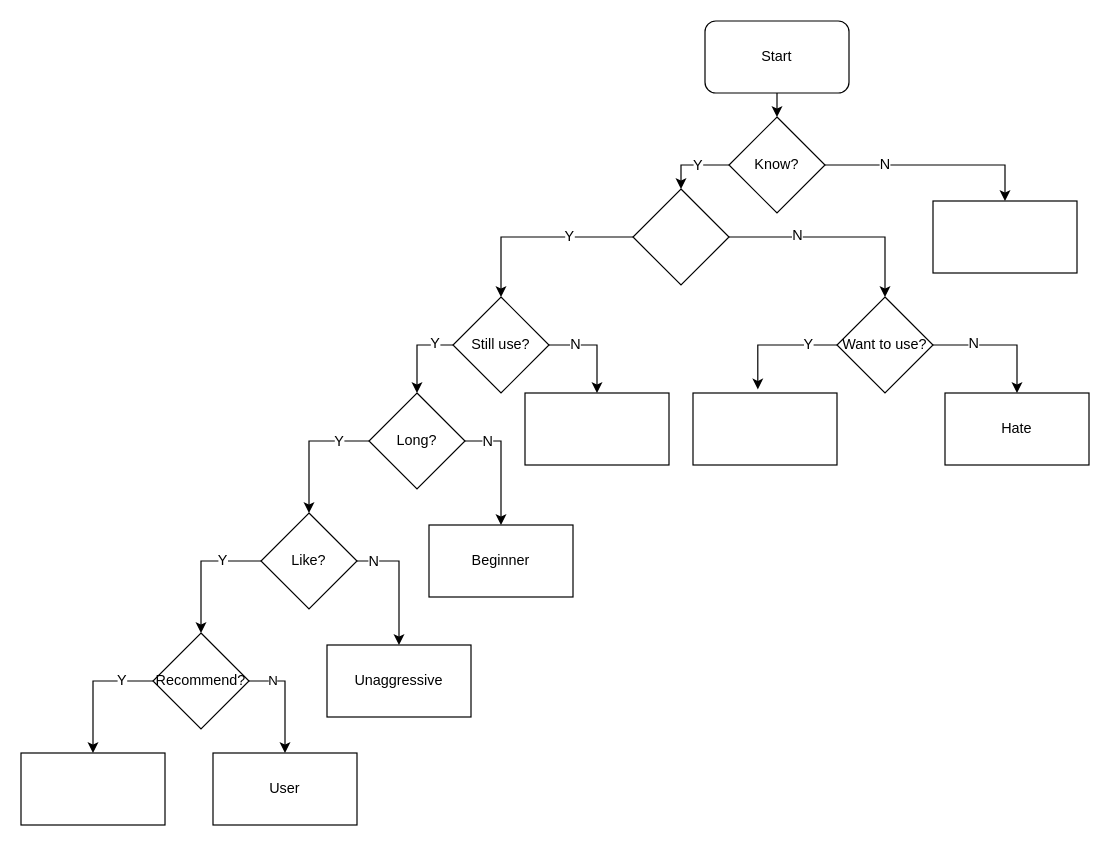
Some shapes in this 1110 by 846 pixel diagram are drawn without their labels. The centre of each missing label's shape, as x and y in pixels:
Fun: (92,788)
Inactive: (596,428)
No opportunity: (764,428)
Unknown: (1004,236)
Use?: (680,236)
